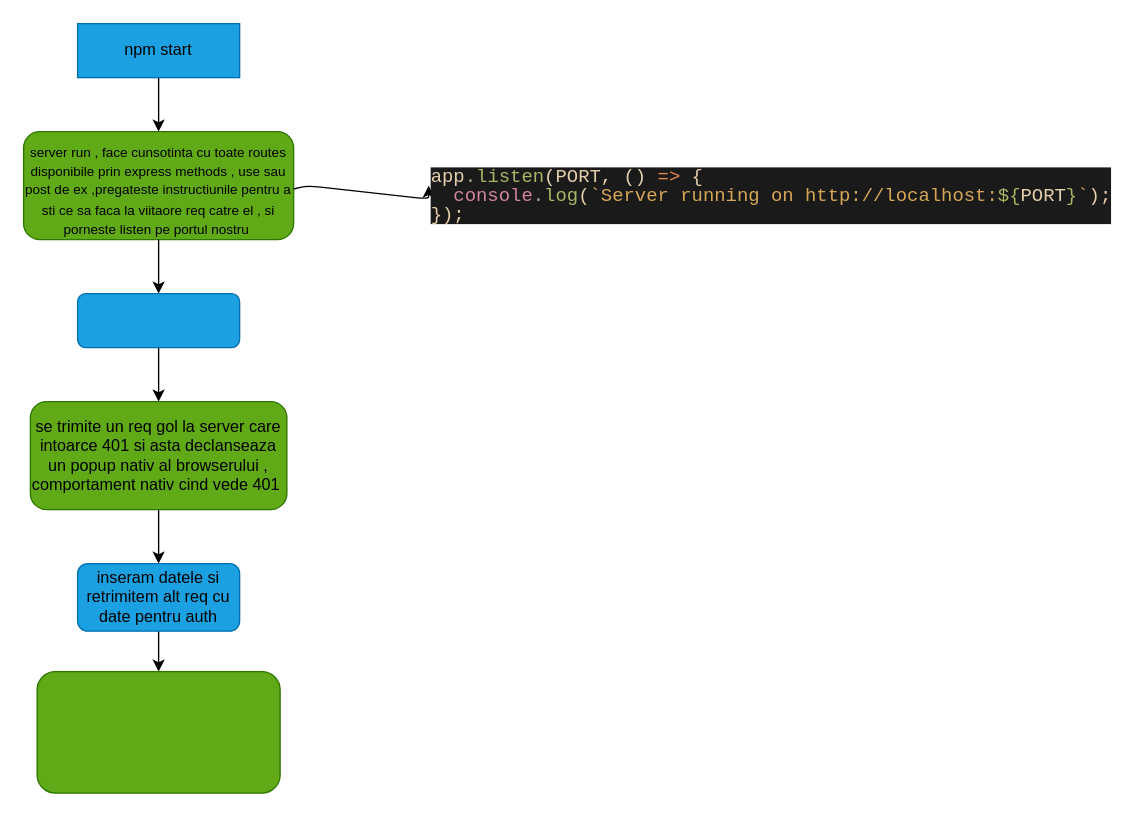
Some shapes in this 1135 by 817 pixel diagram are drawn without their labels. The shapes that lost their labels are listed below. From the top down, each one's centre as x and y in pixels, then its label:
At point 158,320: "localhost:PORT".
At point 158,731: "aici va trece autentificarea si va trece la next".
